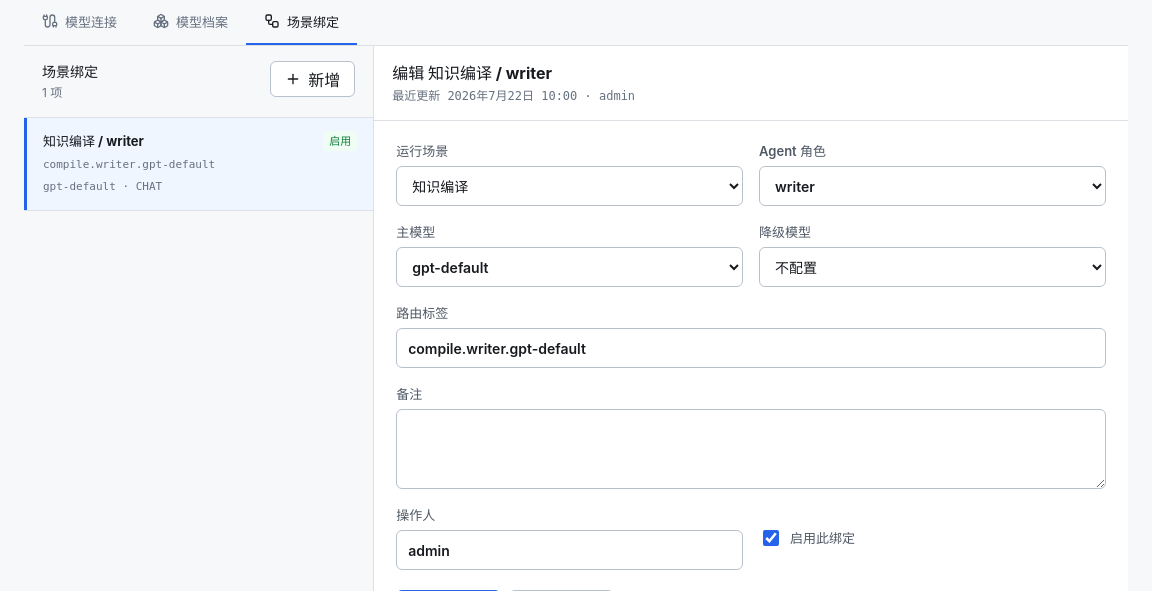
Test: model settings page › prevents duplicate scene-role bindings before sending a request
This screenshot has width=1152, height=591.
Click the button "新增". click: (313,79)
box: [270,61,355,97]
(page scrolled)
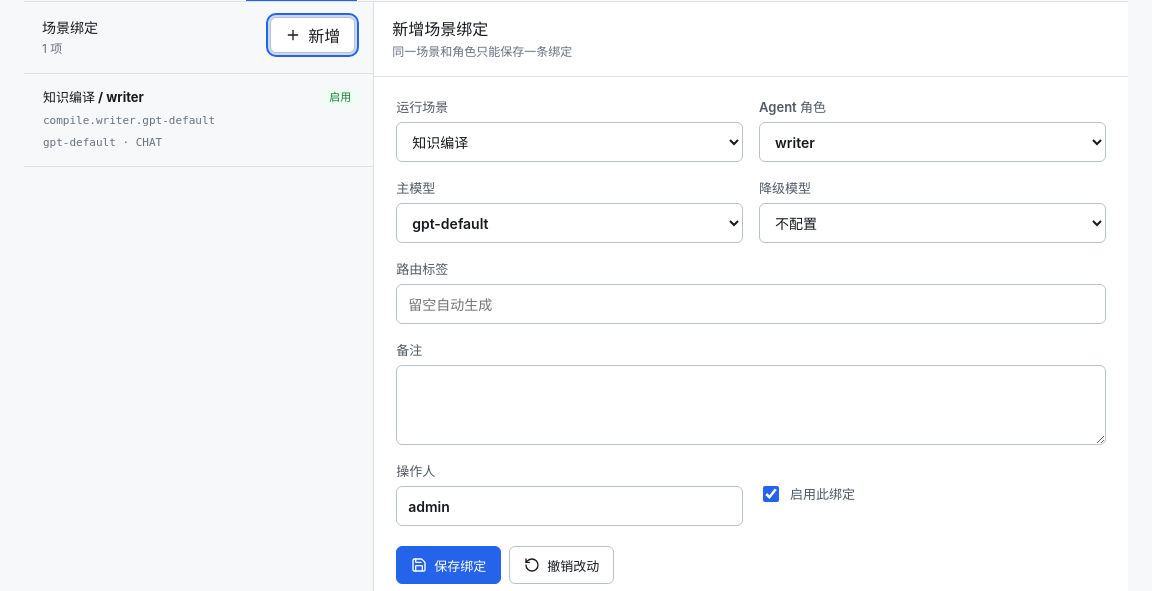
Click the button "保存绑定". click: (449,565)
box: [396,546,501,584]
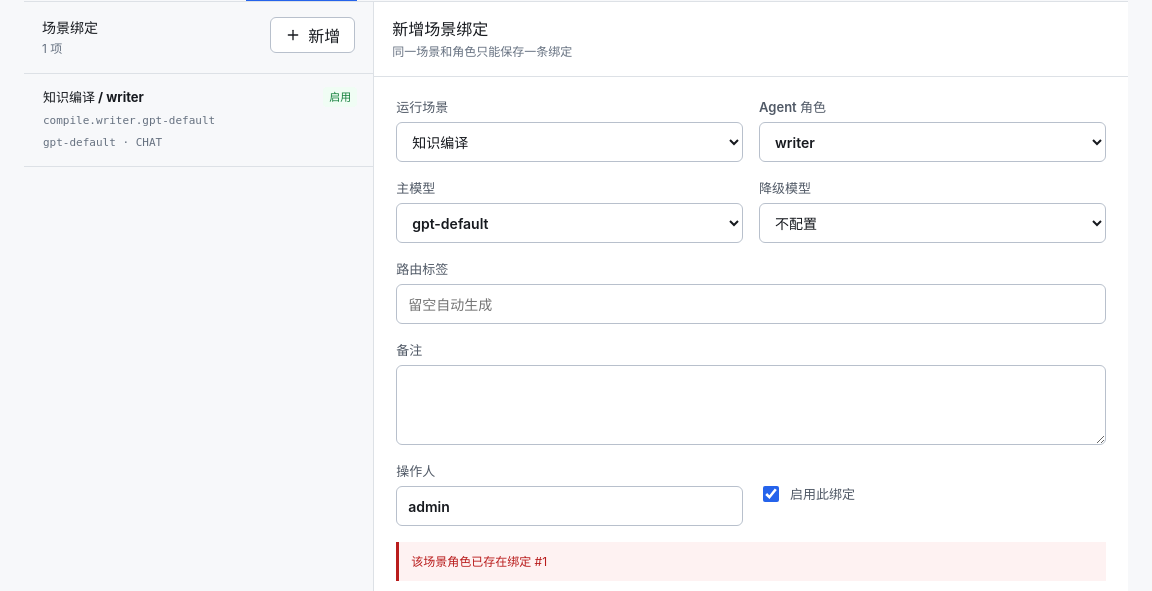
Check: the message reads "该场景角色已存在绑定 #1", box [411,554,547,569]
